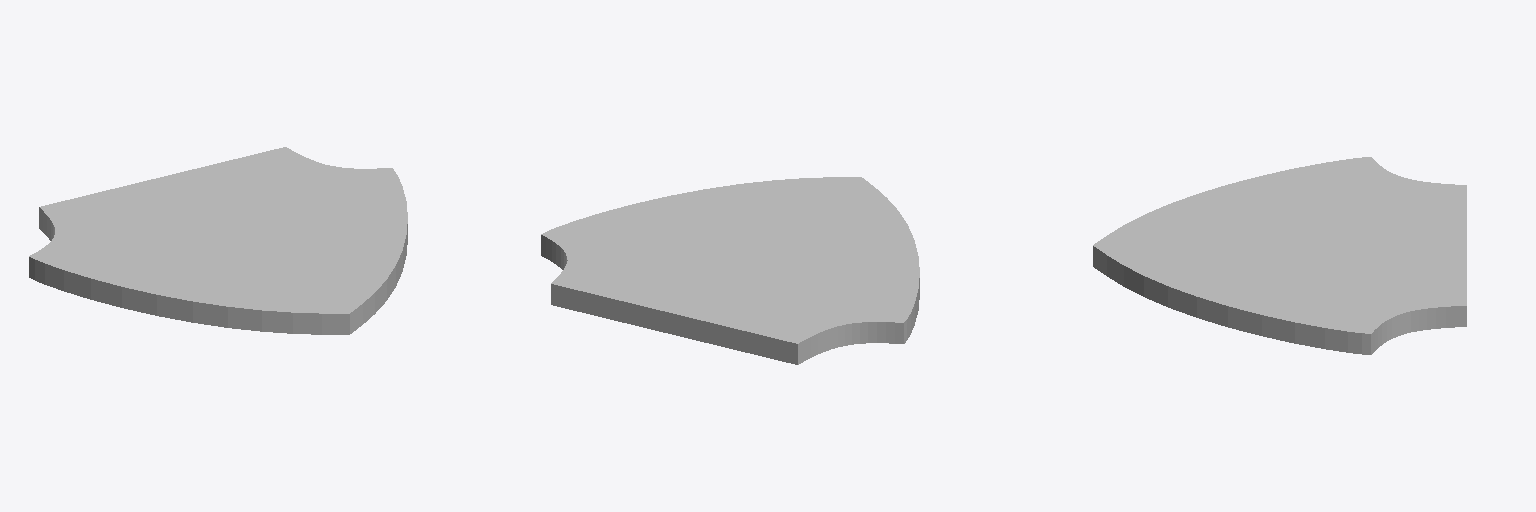
The model's file is Sign.obj.
3 renders of one model, left to right at view 1: azimuth 30°, elevation 25°; view 2: azimuth 150°, elevation 25°; view 3: azimuth 270°, elevation 25°, orthographic.
Visible parts, largest first — view 1: Plane; view 2: Plane; view 3: Plane.
Part boxes in pixels (bbox=[...]): Plane: bbox=[29, 147, 407, 334]; Plane: bbox=[541, 177, 919, 364]; Plane: bbox=[1093, 157, 1466, 354].
Size of the model in its own units: 3.57 by 0.2 by 3.19.